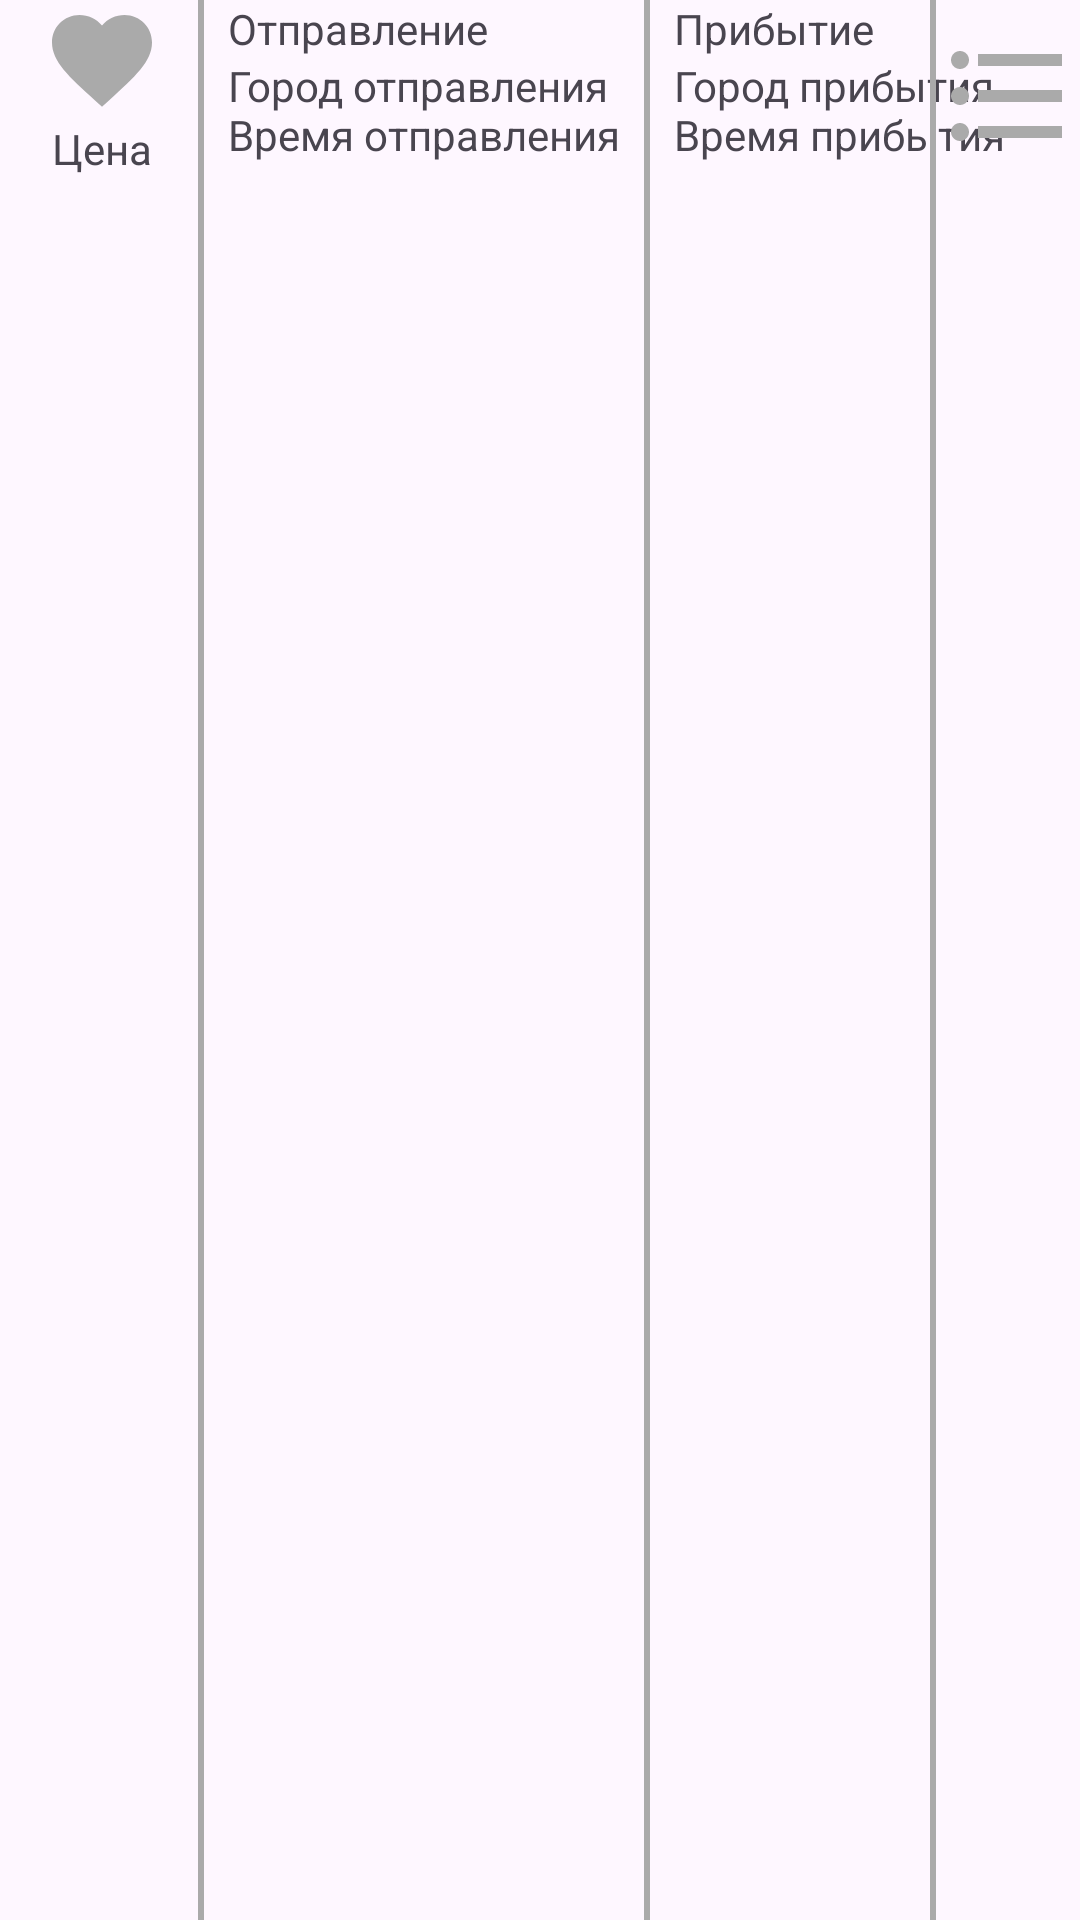

Icons on this 1080*1920 Android screen, each with its box as detection(x1, y1, x2, y2):
Детали перелёта: detection(938, 51, 1062, 151)
Этот перелёт в избранных: detection(52, 15, 152, 107)
